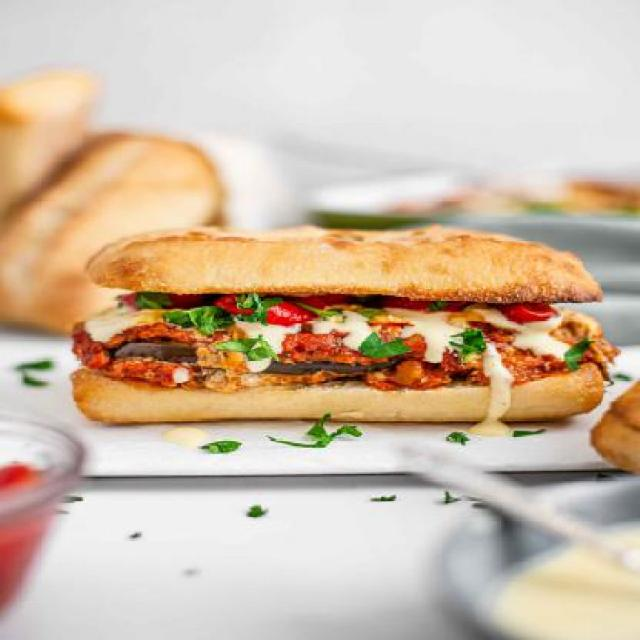eggplant: (104, 334, 558, 375)
hummus: (408, 487, 640, 639), (85, 307, 580, 365)
